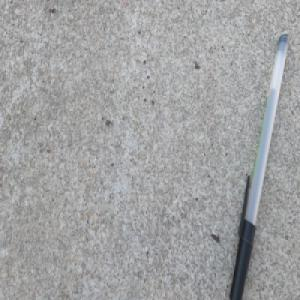Pen: (228, 29, 291, 300)
